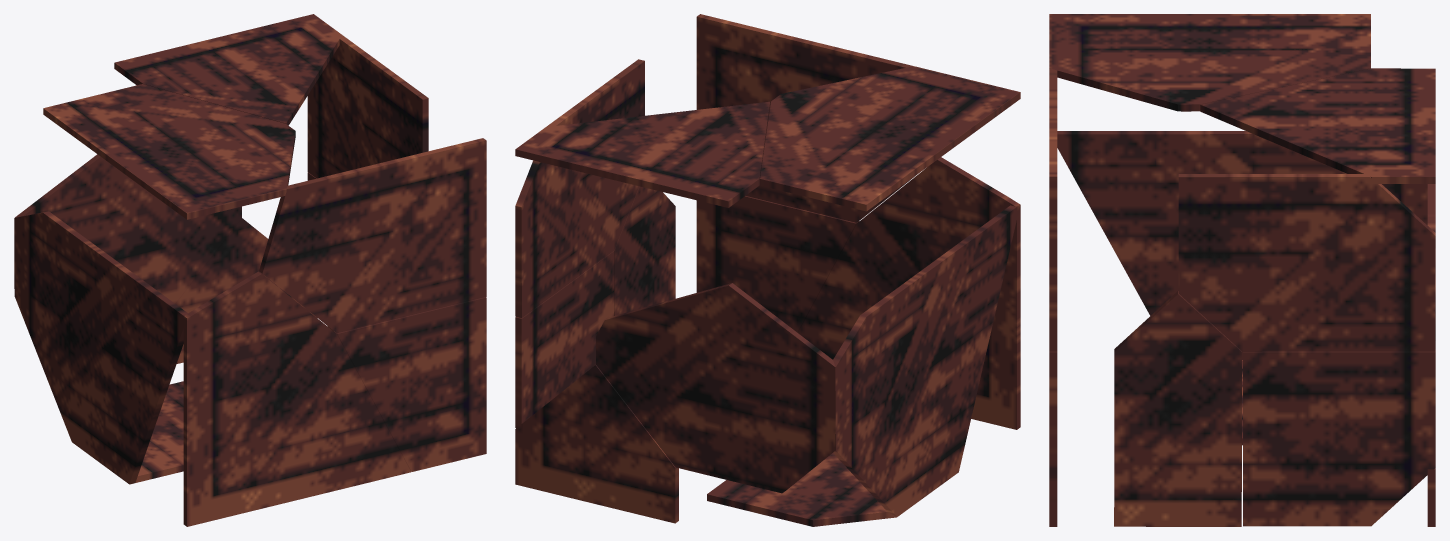
Rendered from crate_des.fbx.
3 views of the same model, side by side, from view 1: azimuth 30°, elevation 25°; view 2: azimuth 150°, elevation 25°; view 3: azimuth 270°, elevation 25° (orthographic). The views are drawn at different scales.
Parts seen in each view (by area): view 1: crate_cell.003, crate_cell.008, crate_cell.005, crate_cell.014, crate_cell.013, crate_cell.001, crate_cell.002, crate_cell.007, crate_cell.009, crate_cell.012; view 2: crate_cell.002, crate_cell.005, crate_cell.014, crate_cell.003, crate_cell.001, crate_cell.009, crate_cell.007, crate_cell.013, crate_cell.008, crate_cell.006, crate_cell.012, crate_cell.004; view 3: crate_cell.007, crate_cell.006, crate_cell.004, crate_cell.014, crate_cell.005, crate_cell.001, crate_cell.008, crate_cell.013, crate_cell.009, crate_cell.002.
Part boxes in pixels (box(x1,y1,x2,y2)): crate_cell.003: box(183, 271, 410, 526); crate_cell.008: box(259, 138, 486, 333); crate_cell.005: box(14, 211, 187, 484); crate_cell.014: box(43, 84, 295, 219); crate_cell.013: box(334, 297, 486, 471); crate_cell.001: box(114, 14, 342, 125); crate_cell.002: box(15, 154, 241, 303); crate_cell.007: box(307, 35, 428, 178); crate_cell.009: box(175, 218, 316, 363); crate_cell.012: box(135, 381, 183, 482); crate_cell.002: box(596, 283, 835, 493); crate_cell.005: box(833, 204, 1020, 516); crate_cell.014: box(760, 66, 1020, 211); crate_cell.003: box(798, 157, 1020, 429); crate_cell.001: box(515, 101, 770, 207); crate_cell.009: box(515, 365, 678, 523); crate_cell.007: box(515, 59, 644, 317); crate_cell.013: box(696, 196, 859, 332); crate_cell.008: box(696, 14, 914, 222); crate_cell.006: box(515, 251, 613, 429); crate_cell.012: box(707, 453, 896, 526); crate_cell.004: box(614, 186, 675, 315); crate_cell.007: box(1178, 174, 1435, 351); crate_cell.006: box(1243, 349, 1435, 526); crate_cell.004: box(1114, 291, 1241, 526); crate_cell.014: box(1049, 14, 1370, 111); crate_cell.005: box(1057, 131, 1427, 359); crate_cell.001: box(1200, 68, 1435, 183); crate_cell.008: box(1049, 68, 1057, 351); crate_cell.013: box(1049, 351, 1057, 526); crate_cell.009: box(1427, 341, 1435, 526); crate_cell.002: box(1427, 184, 1435, 340).
Size of the model in its own units: 100 by 100 by 100.
